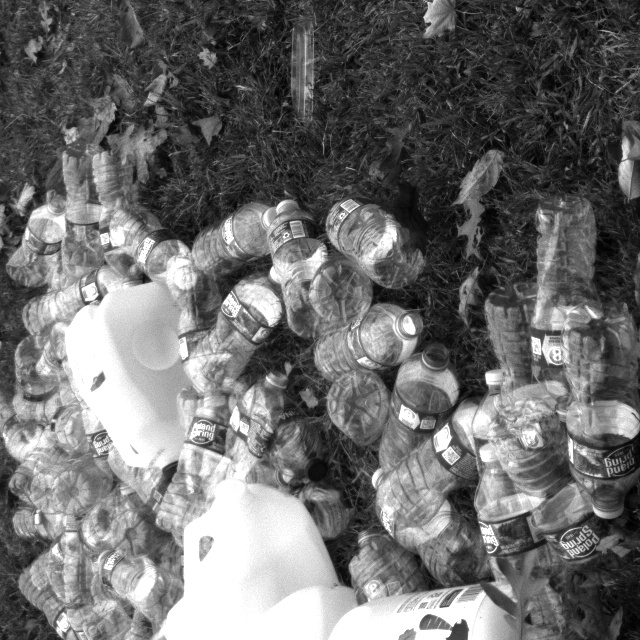bottle: (489, 399, 631, 596), (471, 446, 582, 640), (555, 295, 640, 525), (375, 397, 509, 533), (521, 197, 604, 411), (479, 280, 551, 459), (370, 345, 461, 484), (152, 396, 239, 536), (190, 266, 283, 396), (164, 255, 233, 413), (323, 194, 428, 292), (269, 195, 337, 342), (213, 371, 288, 502), (308, 306, 428, 386), (188, 202, 282, 283), (85, 153, 142, 280), (106, 208, 191, 284), (4, 194, 69, 289), (17, 566, 98, 640), (97, 548, 174, 625), (54, 143, 100, 271), (61, 502, 99, 625), (11, 332, 57, 428), (7, 431, 63, 503), (51, 266, 122, 322), (10, 507, 62, 541)
can: (62, 284, 198, 472), (181, 487, 339, 640), (320, 578, 581, 640)
